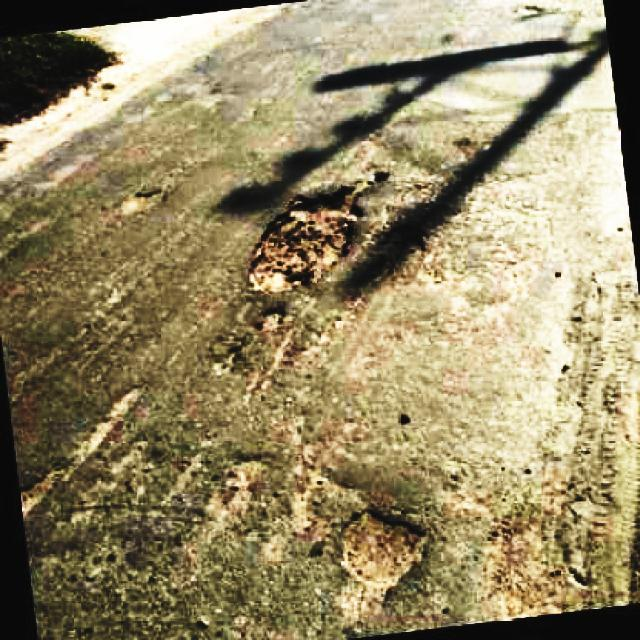pothole: (238, 182, 374, 292), (338, 503, 436, 591)
